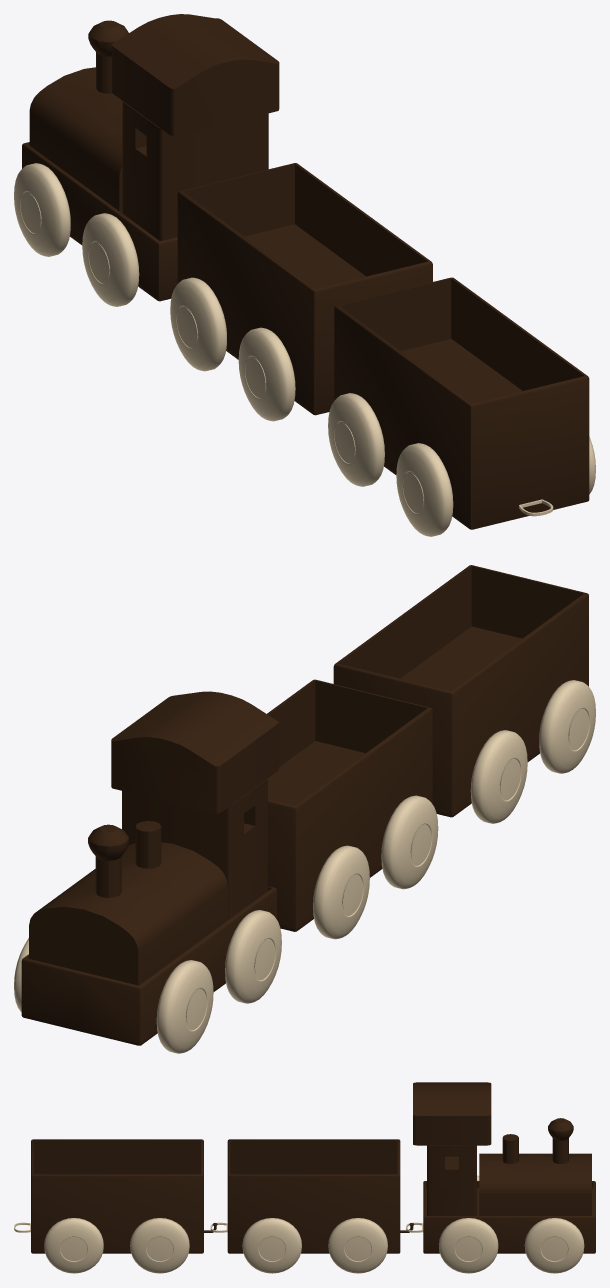
File: 1tren.glb
3 views of the same model, one above another, from view 1: azimuth 30°, elevation 25°; view 2: azimuth 150°, elevation 25°; view 3: azimuth 270°, elevation 25° (orthographic). The views are drawn at different scales.
Visible parts, largest first — view 1: carriage, carriage.002, carriage.001, tire-1.003, tire-1.004, tire-1.005, tire-1.008, tire-1.002, tire-1.009; view 2: carriage.002, carriage, carriage.001, tire-1.003, tire-1.004, tire-1.008, tire-1.005, tire-1.009, tire-1.002; view 3: carriage.002, carriage.001, carriage, tire-1.011, tire-1, tire-1.007, tire-1.010, tire-1.001, tire-1.006.
Boxes of the visible parts, x1,y1,x2,y2 form: carriage: (334,277,589,529); carriage.002: (22,14,279,301); carriage.001: (177,163,432,415); tire-1.003: (238,327,295,421); tire-1.004: (396,443,453,536); tire-1.005: (328,393,384,486); tire-1.008: (82,213,139,306); tire-1.002: (170,277,226,371); tire-1.009: (14,163,70,256); carriage.002: (21,691,278,1045); carriage: (333,565,588,817); carriage.001: (267,679,432,931); tire-1.003: (381,795,438,889); tire-1.004: (539,680,595,773); tire-1.008: (225,910,281,1003); tire-1.005: (470,730,527,823); tire-1.009: (156,960,213,1053); tire-1.002: (313,845,369,939); carriage.002: (413,1082,595,1253); carriage.001: (227,1139,414,1253); carriage: (31,1139,217,1253); tire-1.011: (524,1218,584,1273); tire-1: (328,1218,387,1273); tire-1.007: (130,1218,189,1273); tire-1.010: (439,1218,498,1273); tire-1.001: (242,1218,301,1273); tire-1.006: (44,1218,103,1273).
Bounding box in the file's own units: 0.0992 × 0.1454 × 0.4771.
Materials: 2 (1 with a texture image).
